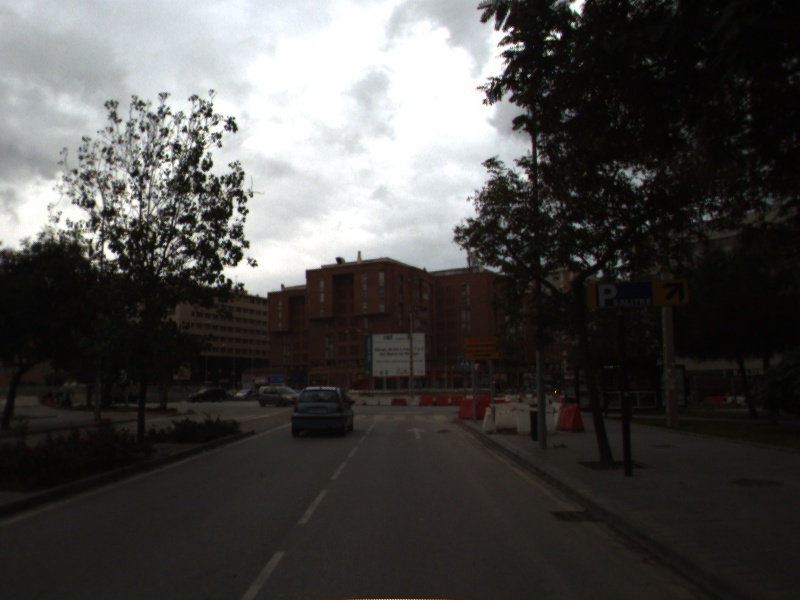STRAIGHT: (405, 425, 429, 441)
